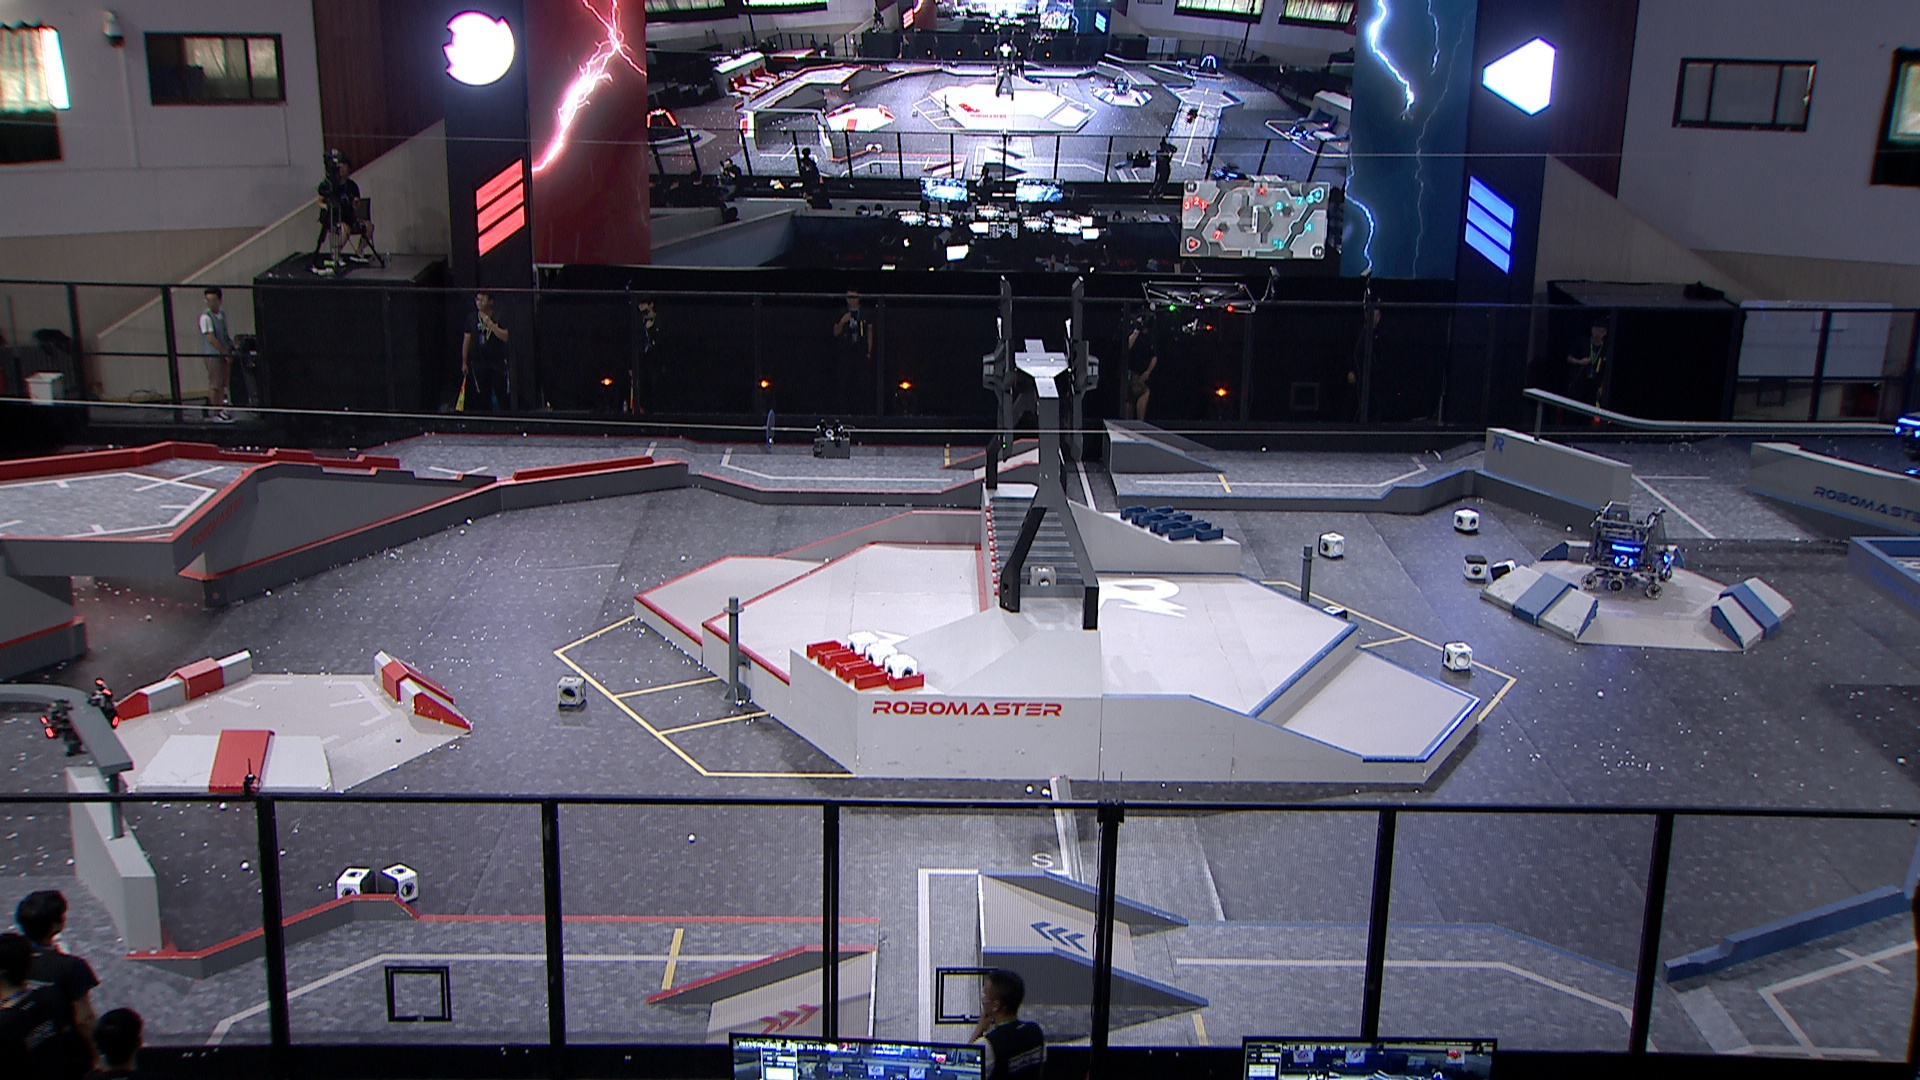armor: (40, 713, 57, 742), (1609, 551, 1634, 571), (1894, 422, 1920, 440), (1659, 550, 1677, 566)
car: (1578, 498, 1680, 599)
ignore: (644, 107, 684, 144), (1211, 160, 1250, 182), (1195, 50, 1221, 76), (1287, 119, 1309, 138), (1112, 76, 1130, 96)
watcher: (36, 679, 127, 760), (1888, 411, 1920, 479)
